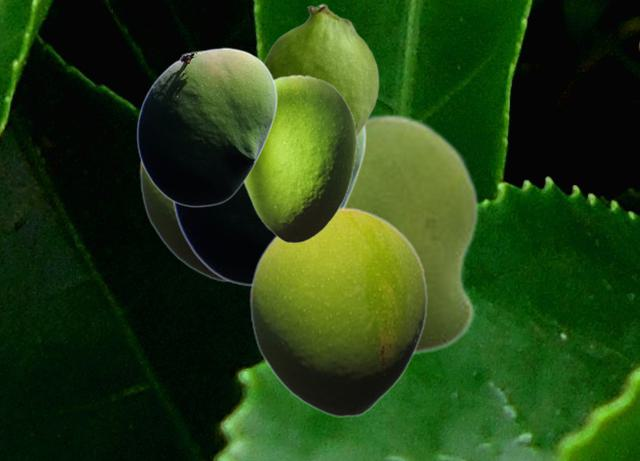green_mango: (249, 207, 427, 417), (347, 113, 479, 358), (171, 125, 366, 285), (136, 47, 277, 206), (242, 74, 356, 242), (263, 3, 378, 138), (139, 162, 225, 281)
